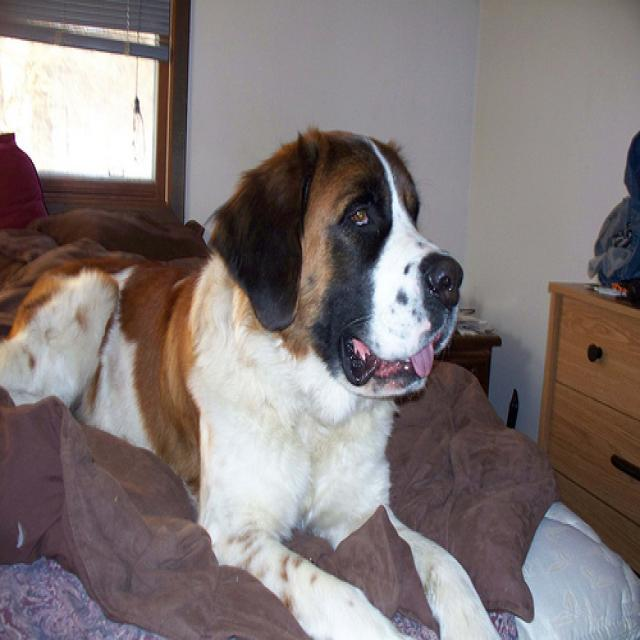dog-saint_bernard: (1, 118, 504, 637)
